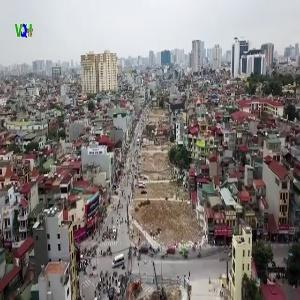drone: (151, 78, 206, 133)
